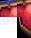heart: (17, 17, 31, 38), (0, 0, 17, 17), (17, 0, 31, 17)
